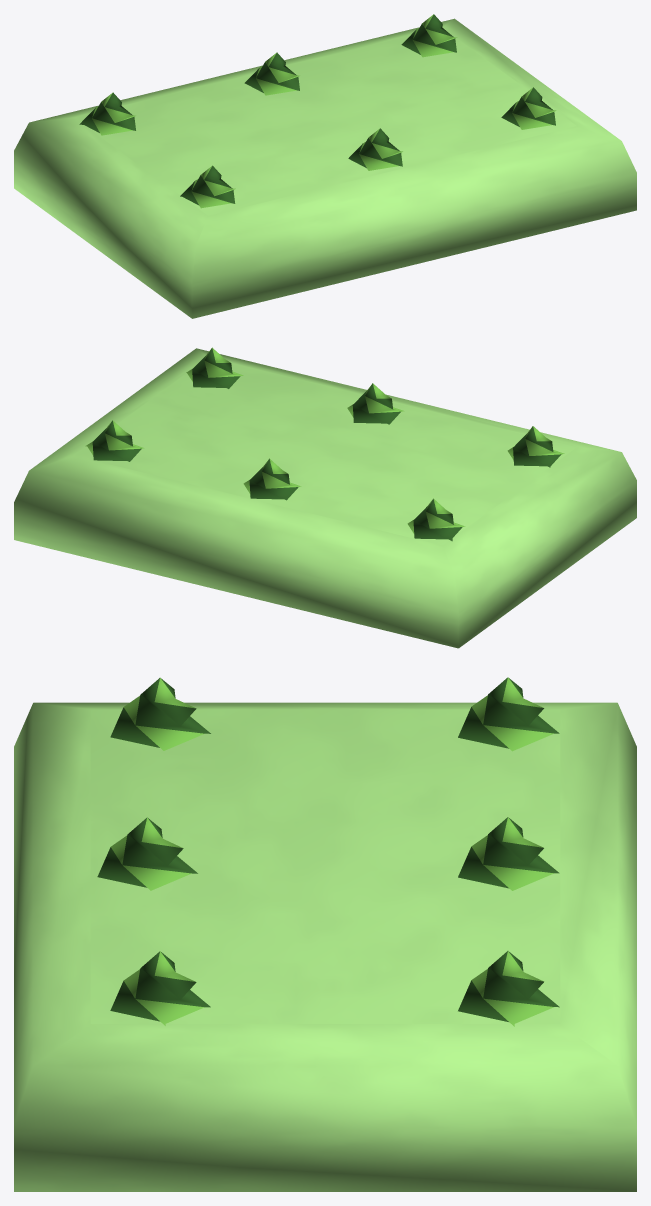
Rendered from Sheet_Cake_A_3.FBX.
The picture shows the model from 3 angles, top to bottom: view 1: azimuth 30°, elevation 25°; view 2: azimuth 150°, elevation 25°; view 3: azimuth 270°, elevation 25°; orthographic projection. The views are drawn at different scales.
Parts seen in each view (by area): view 1: Sheet Cake; view 2: Sheet Cake; view 3: Sheet Cake.
Part boxes in pixels (bbox=[...]): Sheet Cake: bbox=[14, 14, 636, 318]; Sheet Cake: bbox=[14, 347, 636, 648]; Sheet Cake: bbox=[14, 677, 636, 1191].
Size of the model in its own units: 180 by 41.76 by 125.
